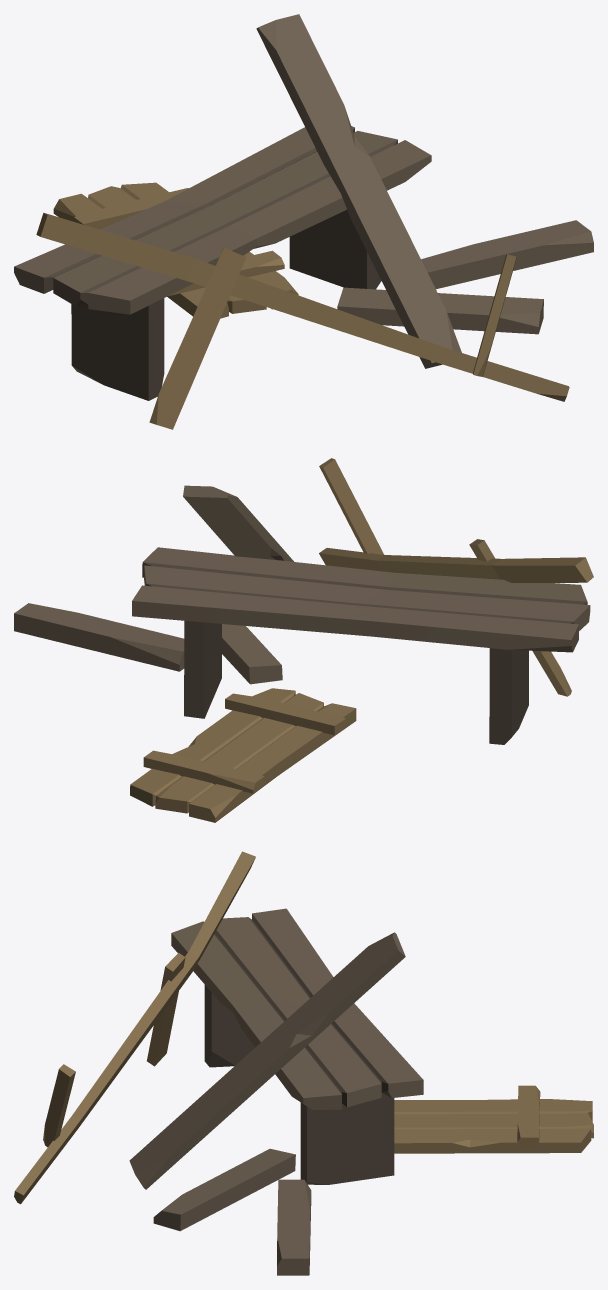
File: SM_Prop_Rubbish_Pile_04.glb
3 renders of one model, top to bottom at view 1: azimuth 30°, elevation 25°; view 2: azimuth 150°, elevation 25°; view 3: azimuth 270°, elevation 25°, orthographic. The views are drawn at different scales.
Parts seen in each view (by area): view 1: SM_Prop_Rubbish_Pile_04; view 2: SM_Prop_Rubbish_Pile_04; view 3: SM_Prop_Rubbish_Pile_04.
Boxes of the visible parts, x1,y1,x2,y2 form: SM_Prop_Rubbish_Pile_04: (14, 14, 593, 429); SM_Prop_Rubbish_Pile_04: (14, 458, 593, 822); SM_Prop_Rubbish_Pile_04: (14, 851, 593, 1275).
Size of the model in its own units: 2.26 by 0.9665 by 2.16.
1 material, 1 textured.
